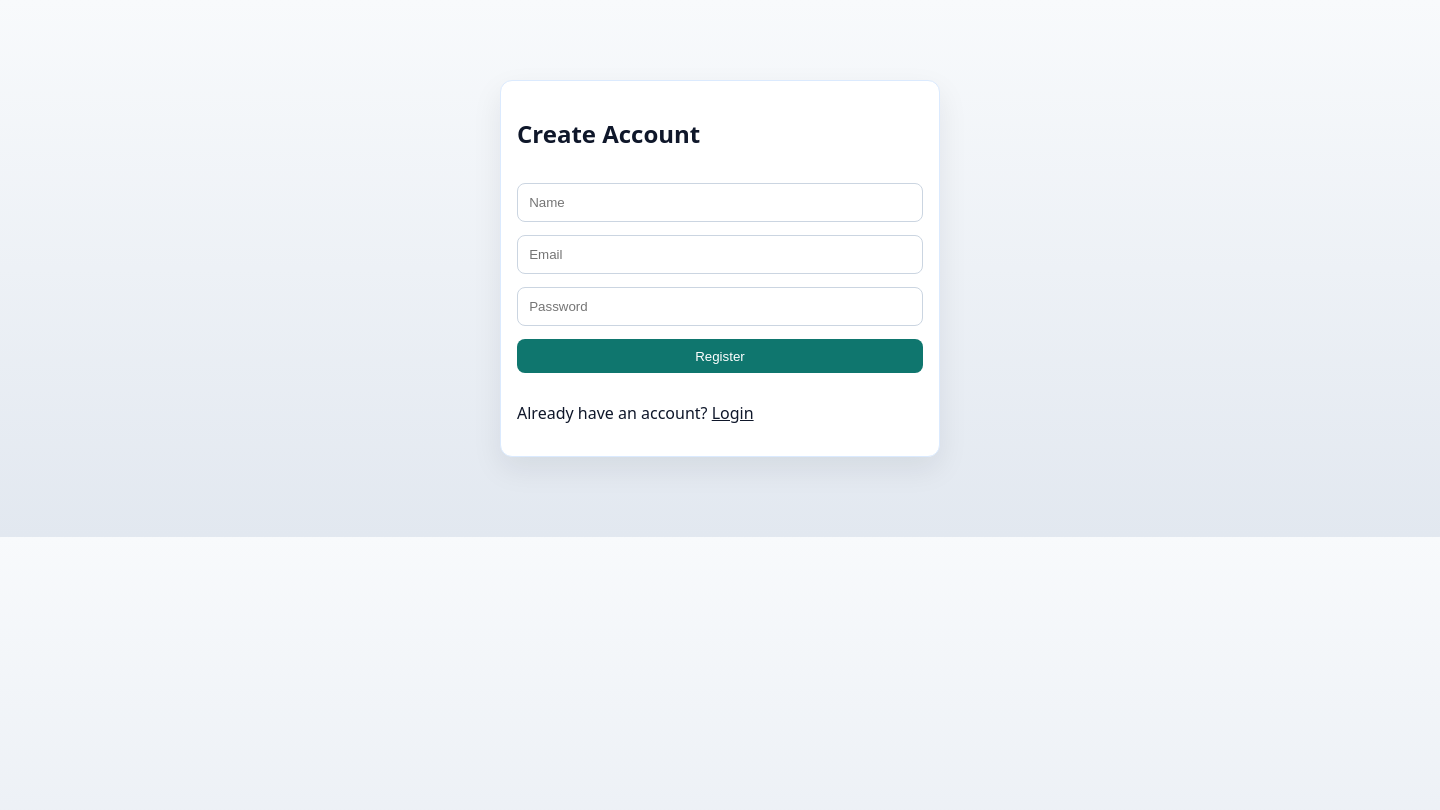
Register page › required field validation
The width and height of the screenshot is (1440, 810).
Click the button "Register". click: (720, 356)
box: [517,339,923,373]
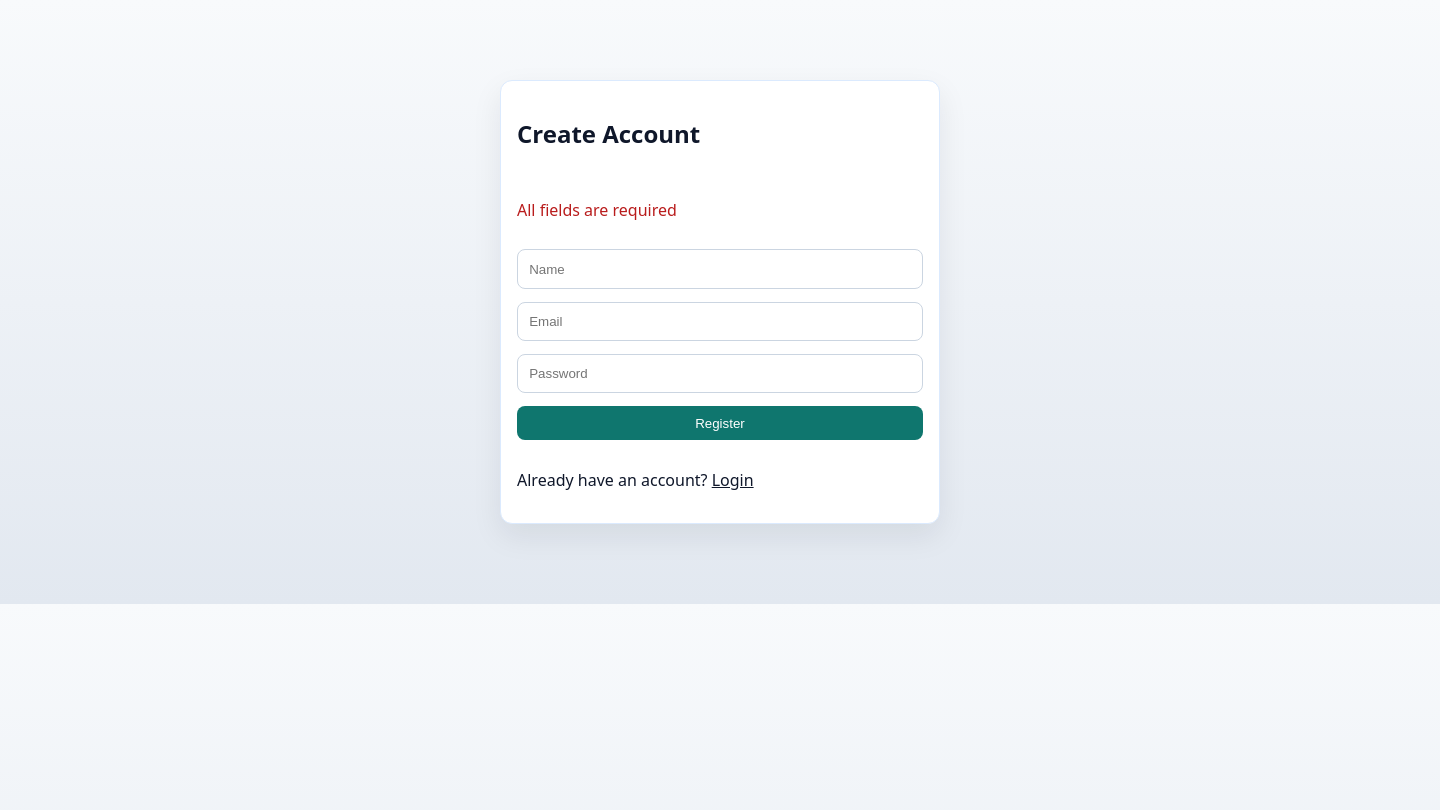
Now the text "All fields are required" is shown, box [517,199,677,221]
